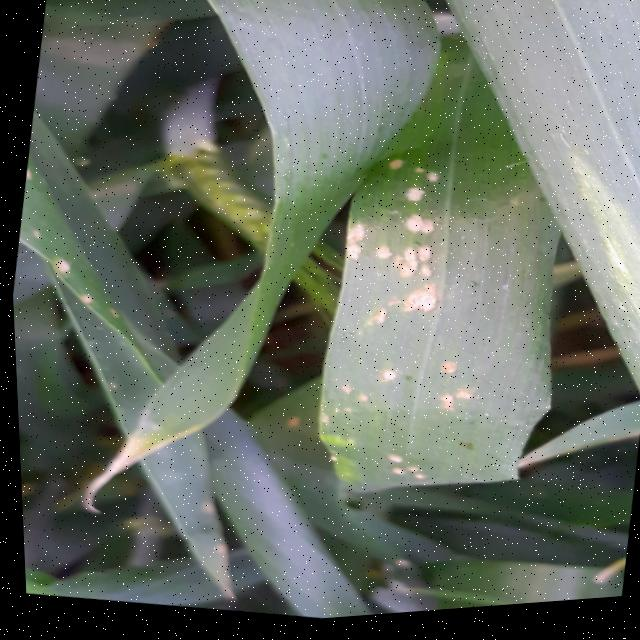powder_mildew: (256, 113, 610, 530), (5, 136, 304, 590), (479, 112, 640, 419), (347, 551, 467, 617)
